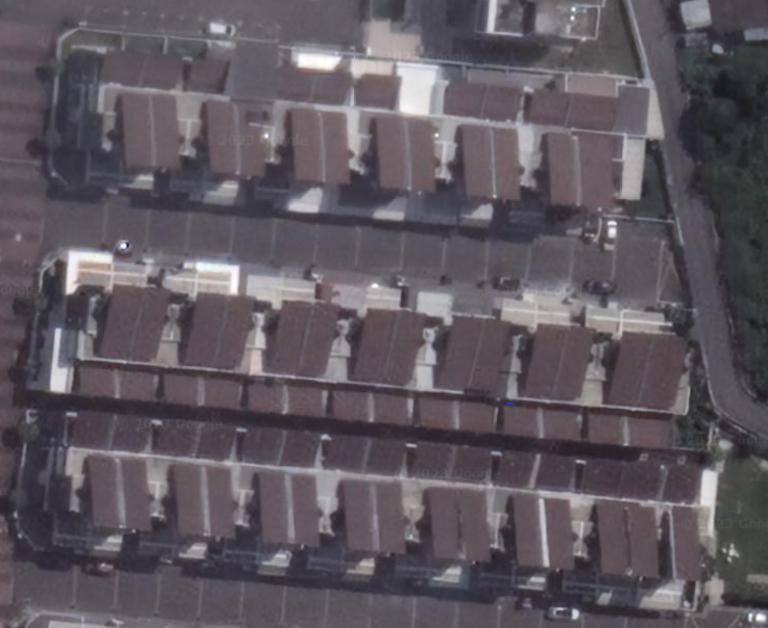building: (417, 315, 489, 434), (501, 321, 569, 445), (586, 332, 658, 448), (70, 284, 142, 398), (333, 307, 401, 425), (245, 297, 312, 415), (97, 44, 155, 175), (629, 332, 689, 454), (167, 289, 226, 411), (459, 315, 515, 439), (152, 416, 206, 540), (289, 296, 344, 416), (525, 87, 578, 211), (412, 443, 467, 561), (66, 414, 121, 531), (232, 39, 278, 178), (324, 435, 376, 557), (205, 293, 257, 413), (545, 325, 597, 445), (241, 425, 291, 548), (445, 79, 495, 202), (185, 55, 235, 175), (572, 92, 621, 212), (359, 74, 408, 194), (375, 309, 425, 426), (122, 285, 171, 402), (275, 65, 321, 189), (450, 443, 495, 561), (623, 455, 665, 579), (588, 455, 628, 580), (198, 418, 238, 541), (503, 452, 545, 569), (315, 70, 355, 191), (664, 457, 703, 581), (534, 453, 576, 568), (486, 82, 525, 204), (145, 54, 183, 178), (115, 414, 155, 530), (286, 428, 325, 546), (371, 436, 405, 555), (404, 117, 435, 194)
